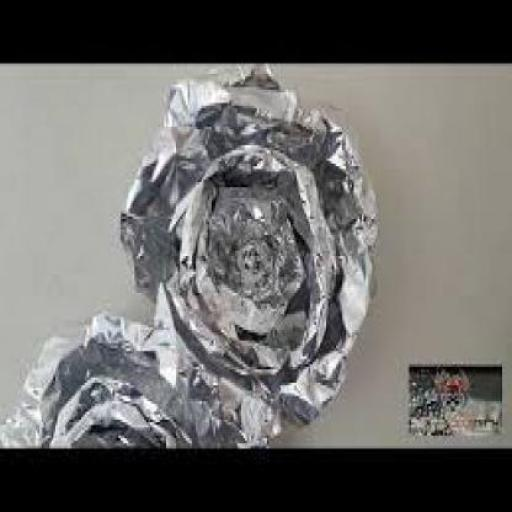metal: (119, 61, 376, 425), (0, 313, 279, 444)
